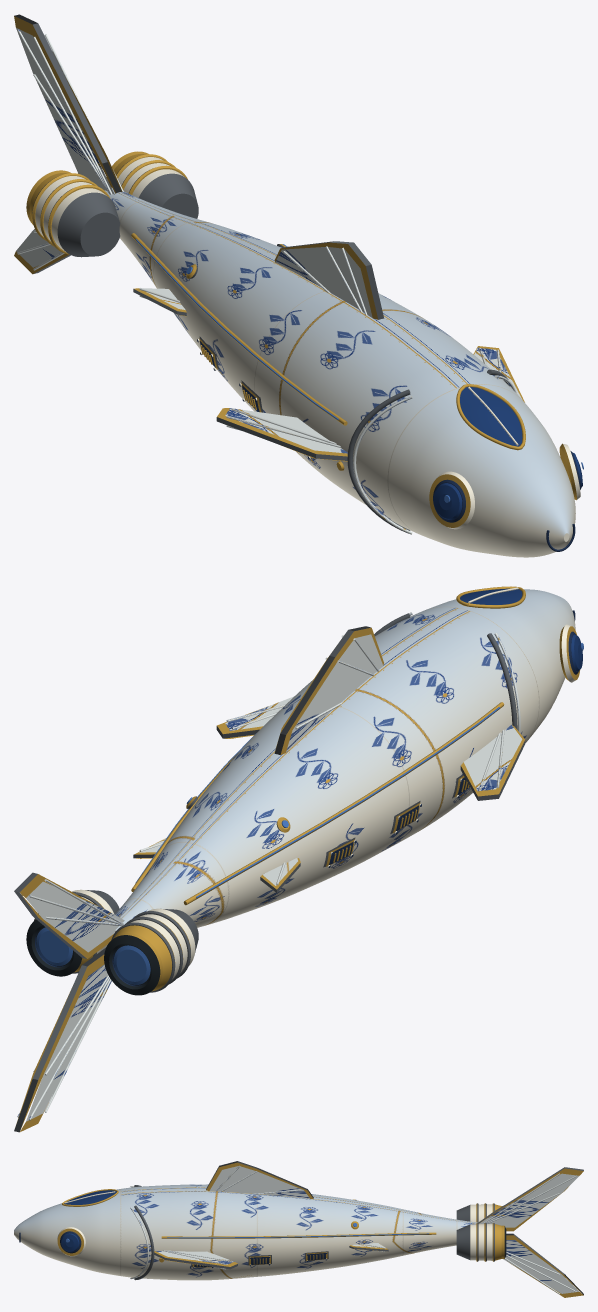
The picture shows the model from 3 angles, top to bottom: view 1: azimuth 30°, elevation 25°; view 2: azimuth 150°, elevation 25°; view 3: azimuth 270°, elevation 25°; orthographic projection. The views are drawn at different scales.
Parts seen in each view (by area): view 1: sardine_hull; view 2: sardine_hull; view 3: sardine_hull.
Part boxes in pixels (left/top/right/bottom): sardine_hull: left=14, top=14, right=583, bottom=557; sardine_hull: left=14, top=586, right=583, bottom=1132; sardine_hull: left=14, top=1161, right=583, bottom=1297.
Bounding box in the file's own units: 4.8 × 4.25 × 16.2.
1 material, 1 textured.
